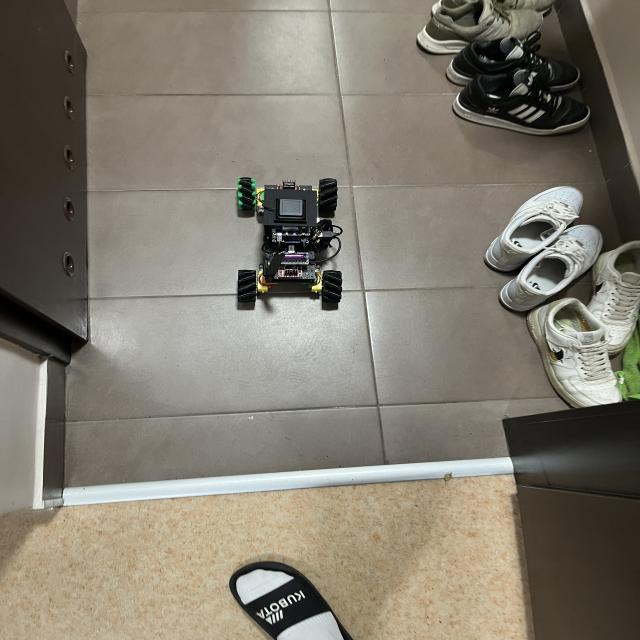robot: (237, 178, 342, 303)
